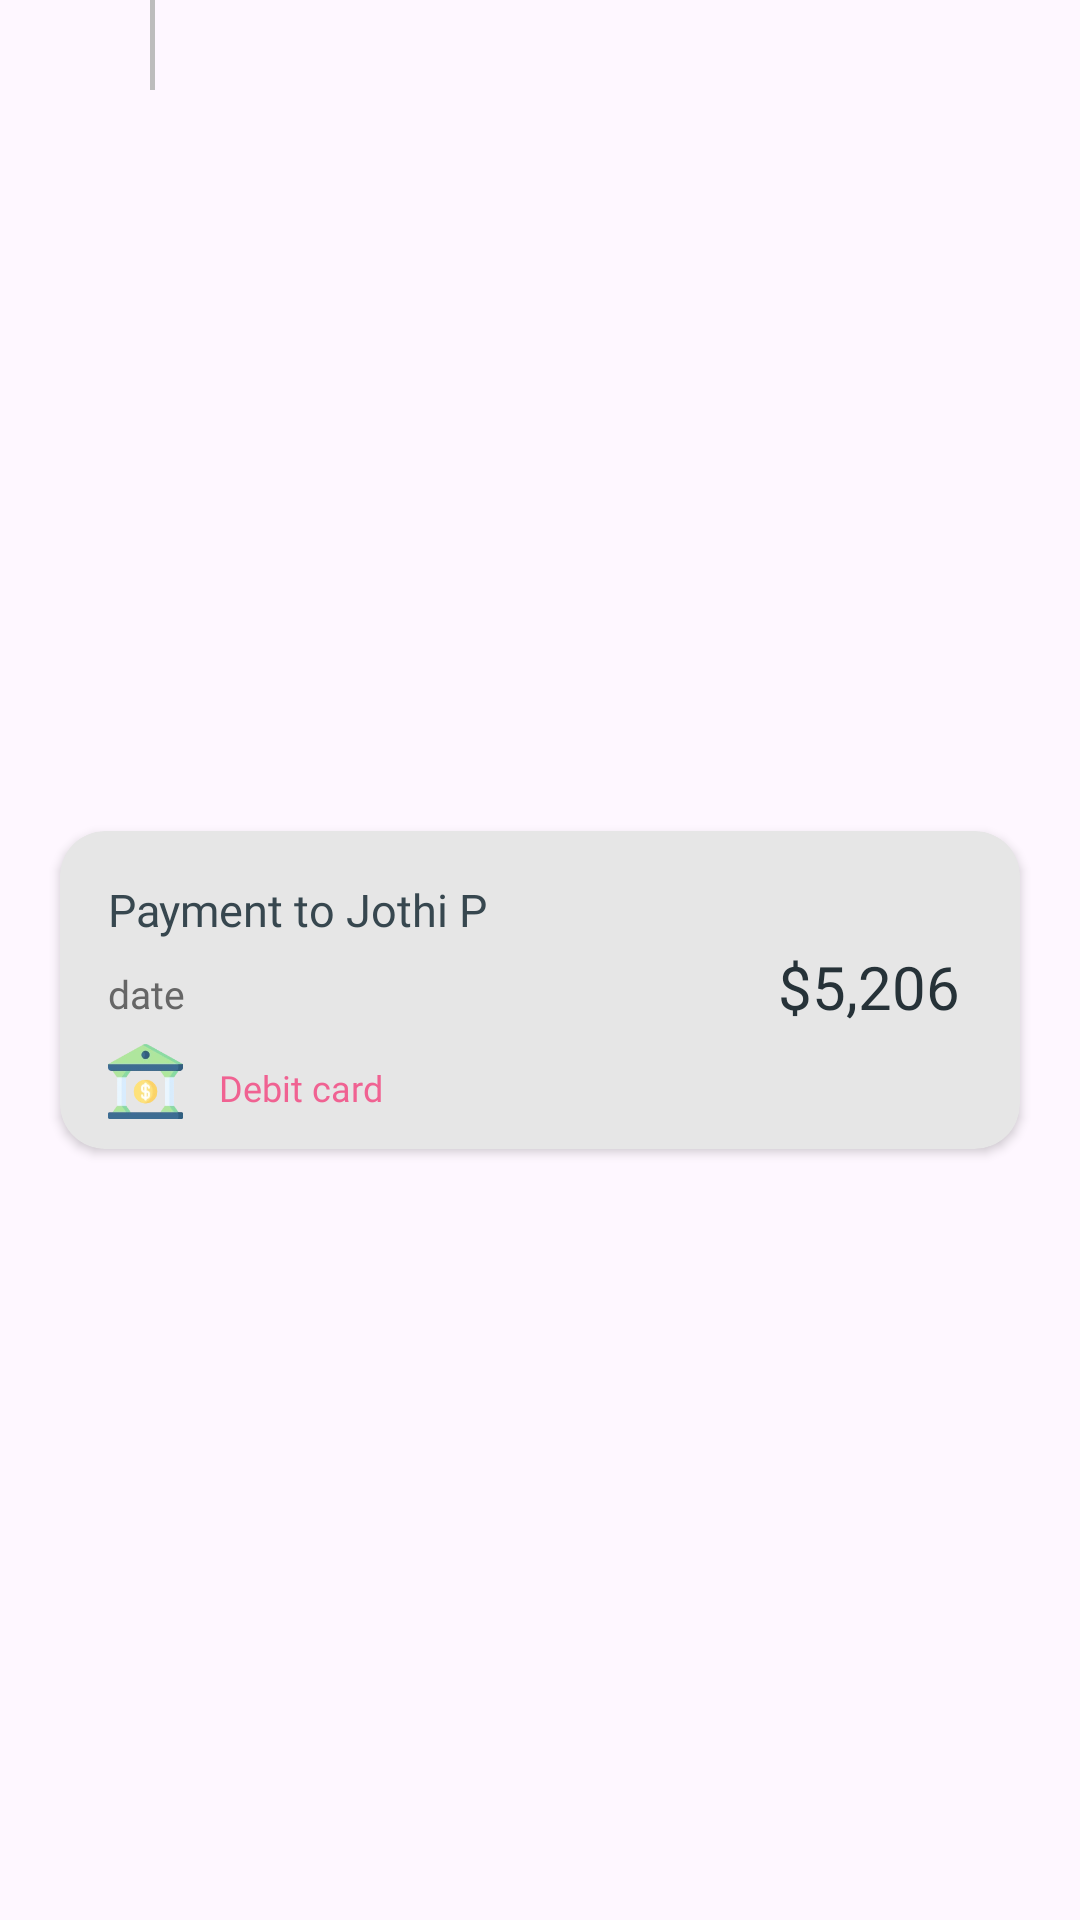

Where icons sit on this 1080 x 1920 app screen, as (x1, y1, x2, y2):
bank account: (108, 1044, 183, 1119)
